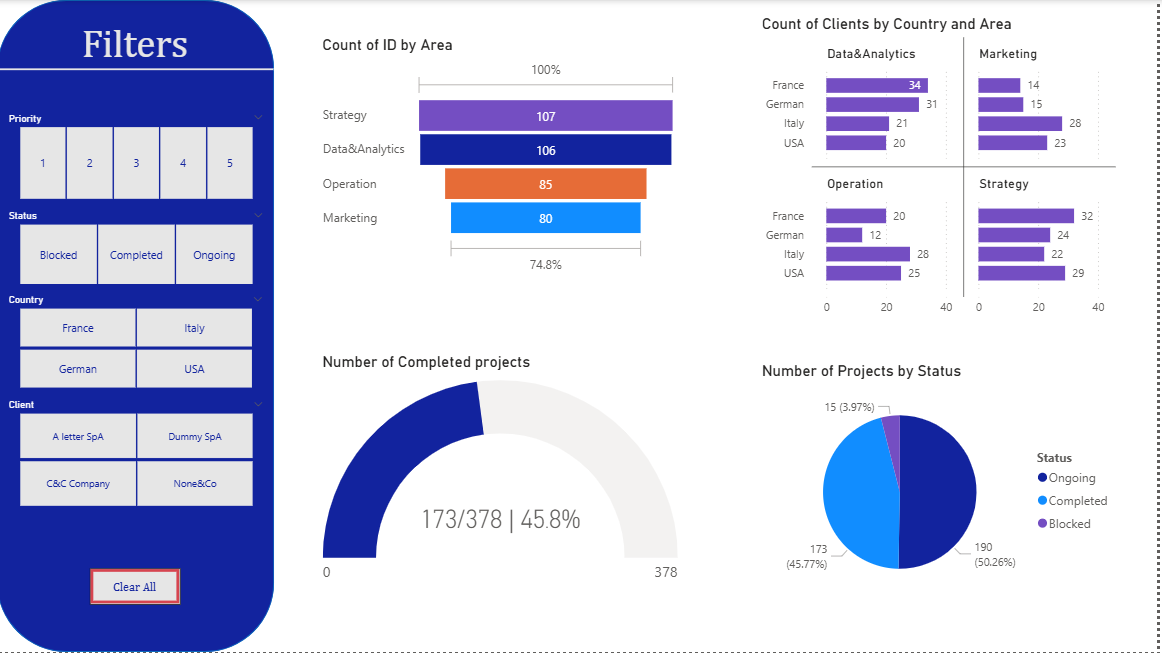

This screenshot's page, from the dashboard's own definition file:
{"tool":"powerbi","page":{"name":"Basic Information","canvas":[1280,720],"ordinal":0},"visuals":[{"type":"shape","box":[0,0,306,720],"z":0},{"type":"gauge","title":"Number of Completed projects","fields":{"Y":["My_Measures.Number of completed projects"],"MaxValue":["CountNonNull(Master.ID)"]},"box":[354.8,388.5,402,268.5],"z":1000},{"type":"pieChart","title":"Number of Projects by Status","fields":{"Category":["Master.Status"],"Y":["CountNonNull(Master.ID)"]},"box":[840.3,399.1,401.6,268.4],"z":2000},{"type":"funnel","fields":{"Y":["CountNonNull(Master.ID)"],"Category":["Master.Area"]},"box":[354.8,39,401.3,268.5],"z":3000},{"type":"slicer","fields":{"Values":["Master.Priority"]},"box":[0,120,306.1,106.8],"z":4000},{"type":"slicer","fields":{"Values":["Master.Client"]},"box":[0,435.5,306.1,129.5],"z":5000},{"type":"slicer","fields":{"Values":["Master.Country"]},"box":[0,320.5,305.4,115],"z":6000},{"type":"slicer","fields":{"Values":["Master.Status"]},"box":[0,226.9,306.1,93.6],"z":7000},{"type":"textbox","box":[48.4,17,208,66],"z":8000},{"type":"actionButton","box":[102.8,627.8,99.8,39.8],"z":9000},{"type":"shape","box":[0.6,69.1,305.4,13.8],"z":10000},{"type":"barChart","title":"Count of Clients by Country and Area","fields":{"Rows":["Master.Area"],"Category":["Master.Country"],"Y":["CountNonNull(Master.ID)"]},"box":[840.3,17,401.6,341.9],"z":11000}]}

Visuals, with their boxes in screenshot pixels (x1, y1, x2, y2), scaled from the page's 1280x720 canvas onto the 1162x653 screenshot:
shape: 0, 0, 278, 652
"Number of Completed projects" gauge: 322, 352, 687, 596
"Number of Projects by Status" pieChart: 763, 362, 1127, 605
funnel - CountNonNull(Master.ID) x Master.Area: 322, 35, 686, 279
slicer - Master.Priority: 0, 109, 278, 206
slicer - Master.Client: 0, 395, 278, 512
slicer - Master.Country: 0, 291, 277, 395
slicer - Master.Status: 0, 206, 278, 291
textbox: 44, 15, 233, 75
actionButton: 93, 569, 184, 605
shape: 1, 63, 278, 75
"Count of Clients by Country and Area" barChart: 763, 15, 1127, 326
